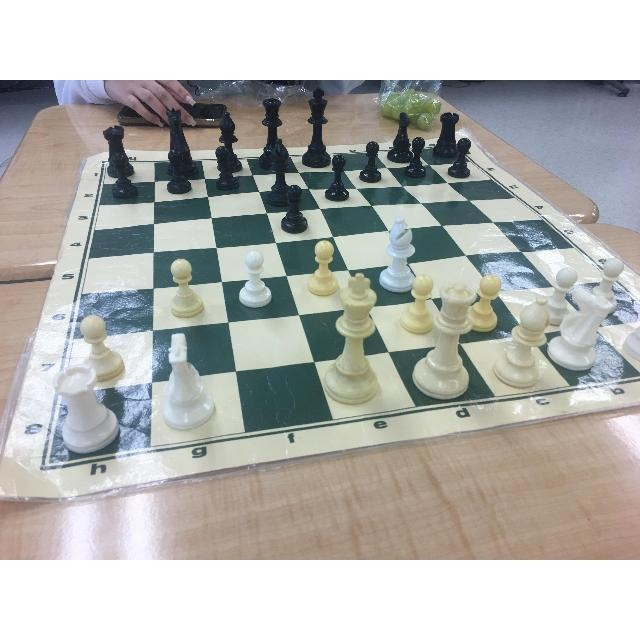black-bishop: (266, 140, 291, 210), (214, 108, 242, 168)
black-king: (304, 86, 328, 166)
black-knight: (161, 108, 203, 166), (390, 114, 410, 162)
black-pawn: (161, 148, 197, 200), (280, 183, 314, 237), (107, 156, 140, 200), (212, 144, 240, 188), (326, 149, 349, 201), (357, 141, 384, 184), (452, 133, 473, 180), (408, 135, 426, 174)
black-queen: (261, 96, 285, 166)
black-rook: (90, 118, 140, 168), (431, 107, 457, 158)
white-bishop: (510, 294, 555, 384), (379, 212, 414, 283)
white-king: (334, 275, 376, 399)
white-knight: (152, 334, 216, 438), (554, 291, 615, 371)
white-pawn: (158, 253, 210, 319), (239, 242, 279, 316), (74, 304, 120, 367), (404, 270, 437, 332), (469, 266, 501, 327), (588, 243, 621, 296), (309, 239, 337, 298), (553, 263, 575, 323)
white-queen: (440, 280, 476, 402)
white-rook: (42, 363, 111, 449)
